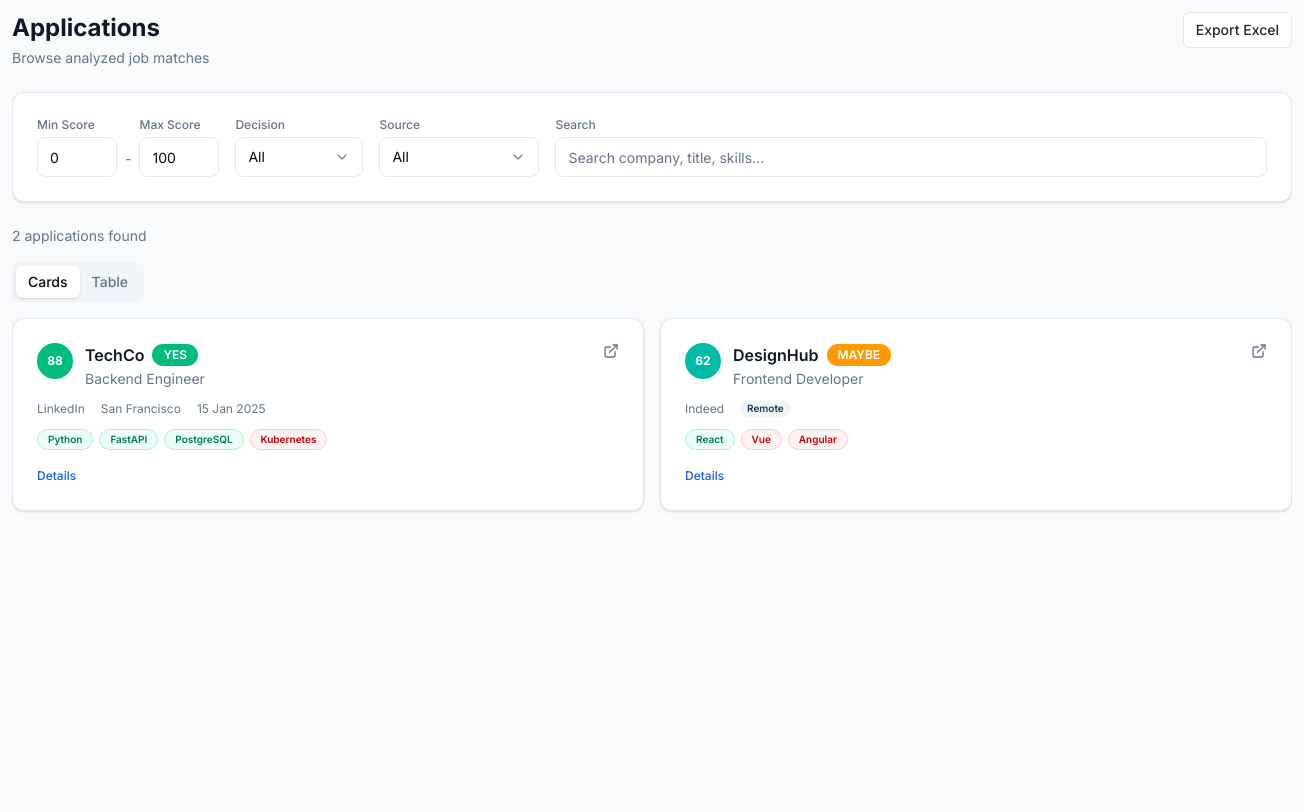
ApplicationsPage › expands and collapses details
expect the text "TechCo" is shown: met, box 85,343 -> 144,367
Note: Find the first "Details" button and click
Click the button "Details" below "Python".
click(57, 476)  # box 37,468 -> 76,484
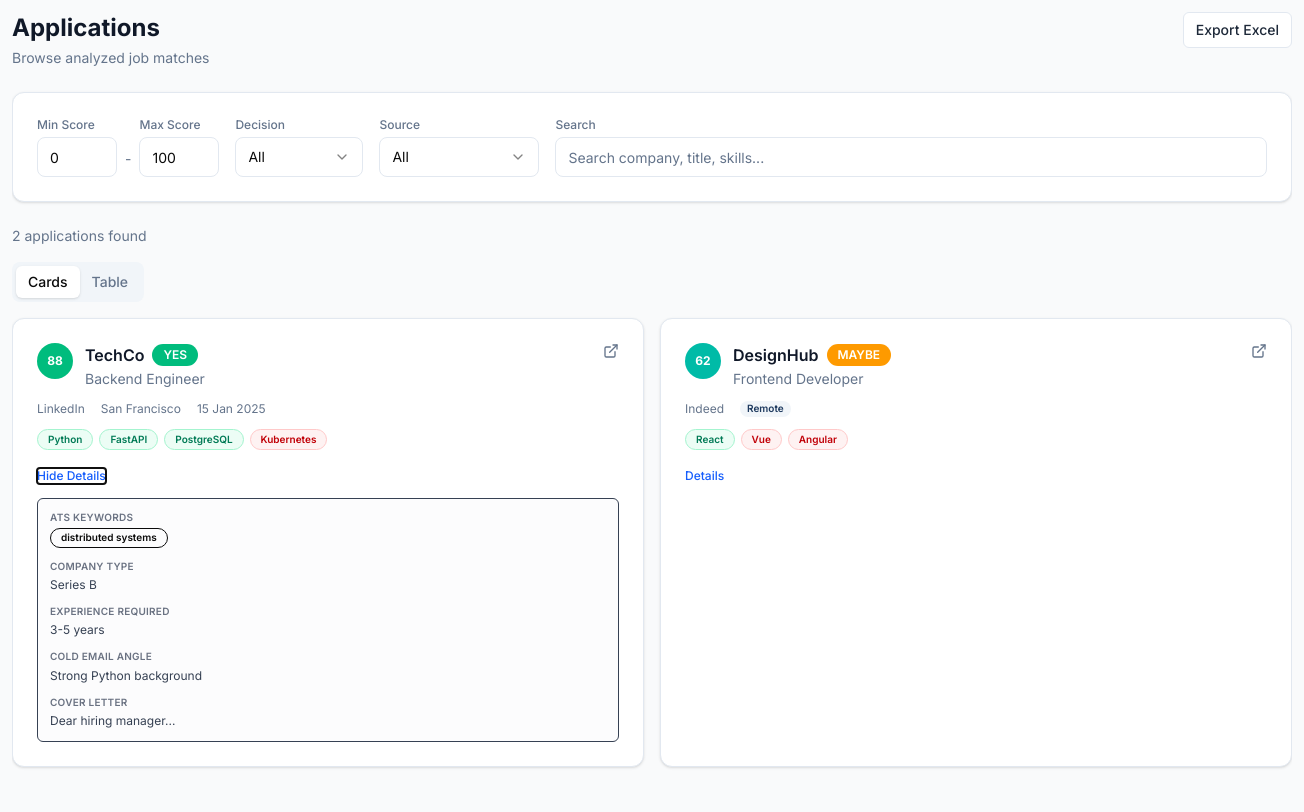
expect the text "ATS Keywords" is shown: met, box 50,511 -> 133,523
expect the text "distributed systems" is shown: met, box 50,528 -> 168,548
Note: Click "Hide Details" to collapse
Click the button "Hide Details".
click(71, 476)  # box 37,468 -> 106,484
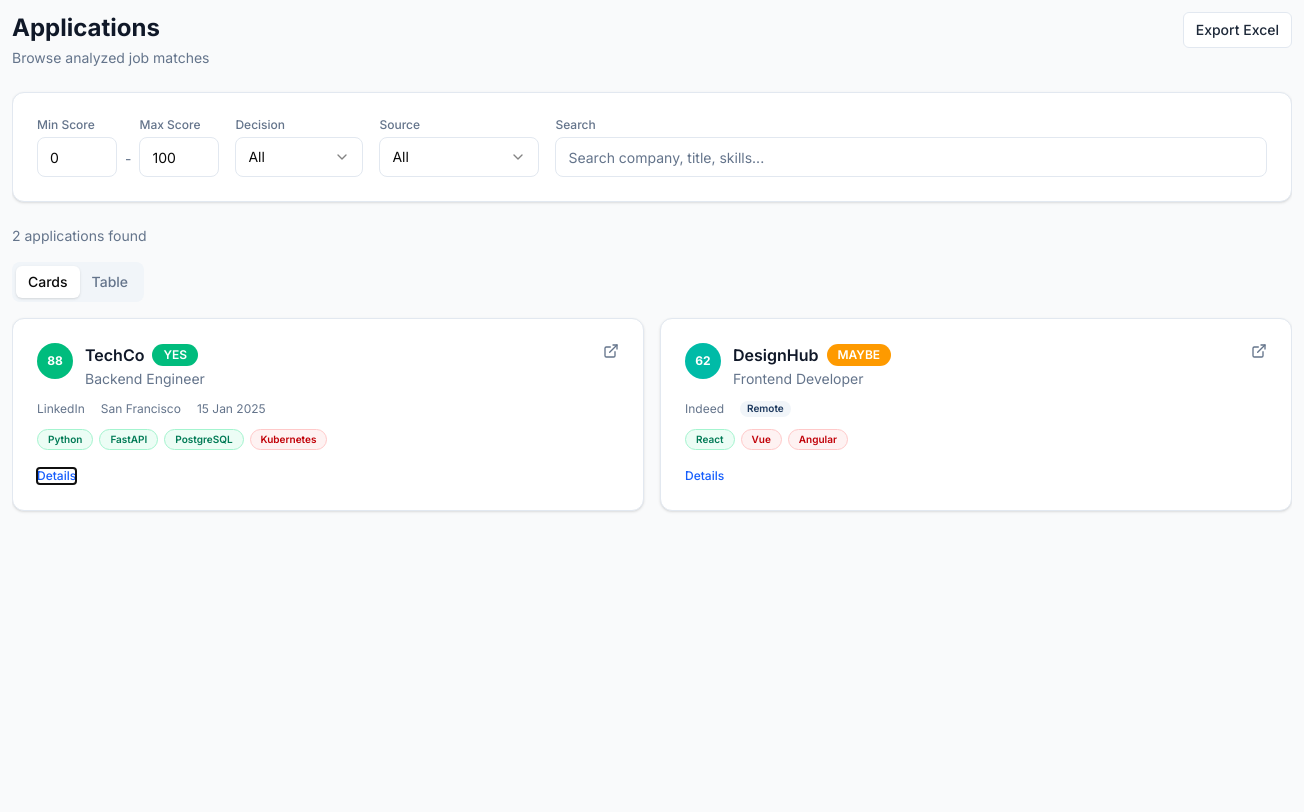
expect the text "ATS Keywords" is gone: met
